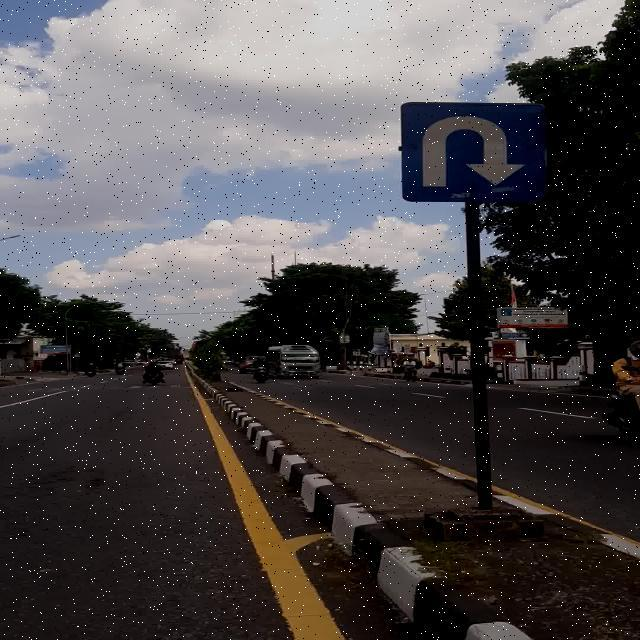Putar Balik: (400, 101, 550, 202)
